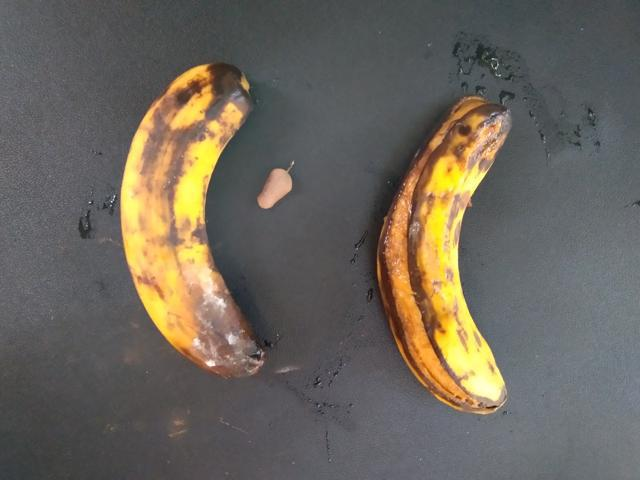rotten: (362, 85, 565, 416), (108, 44, 290, 396)
